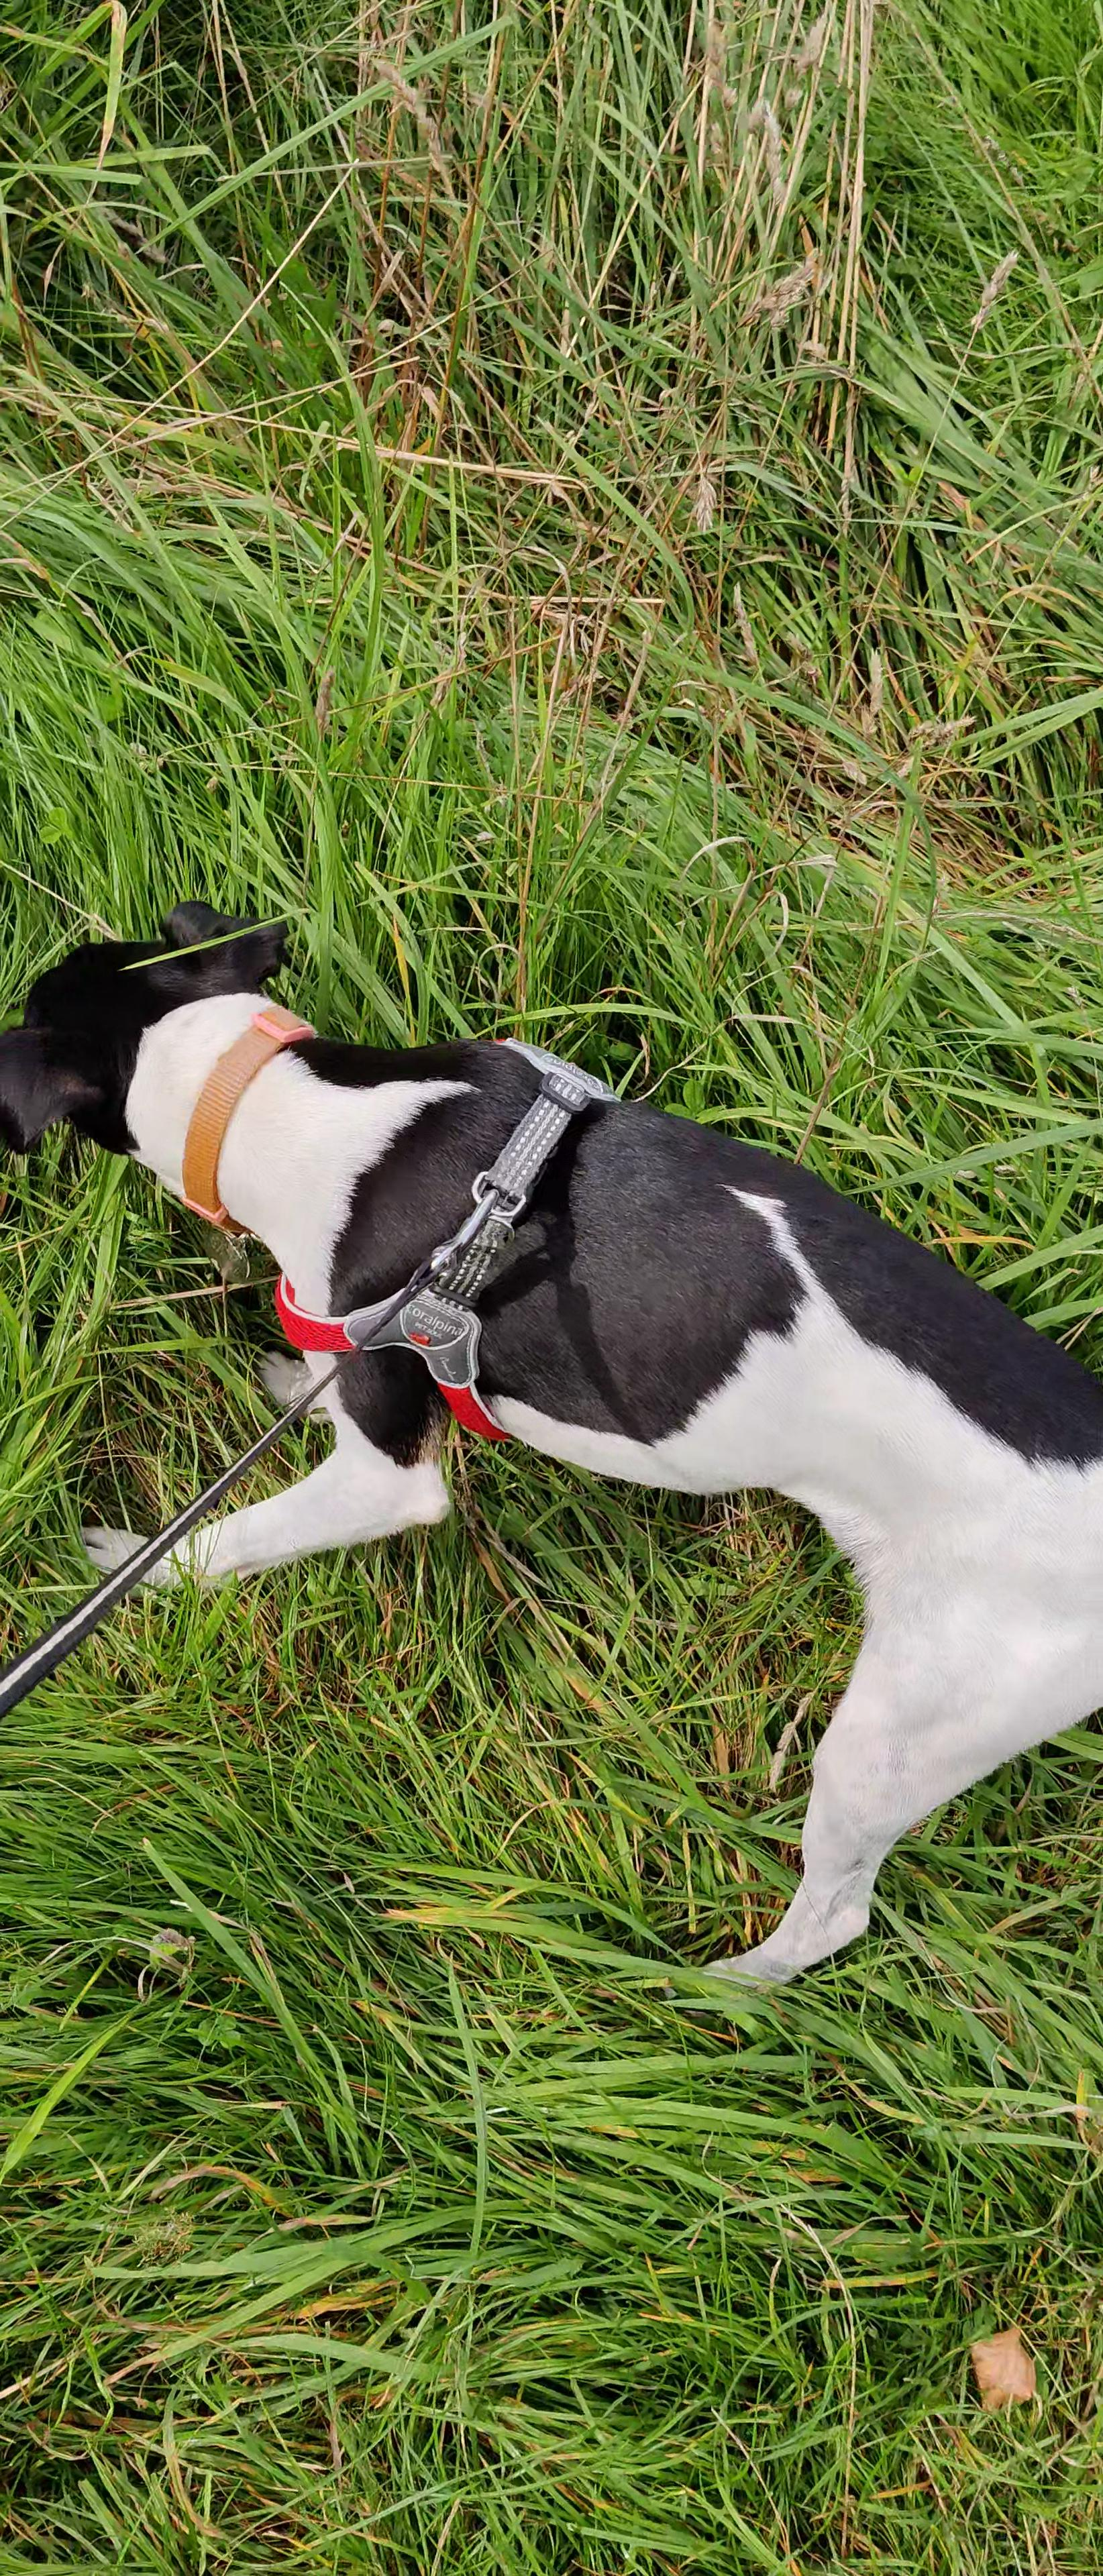Dog: (0, 881, 1103, 2016)
